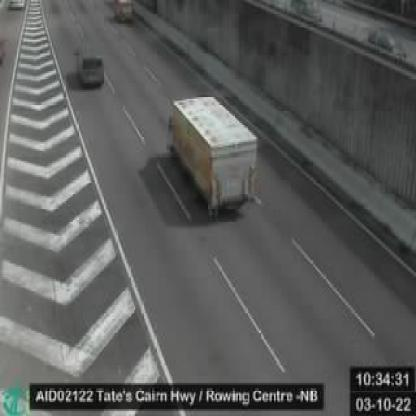Car: (74, 50, 104, 87)
Truck: (161, 95, 252, 210)
